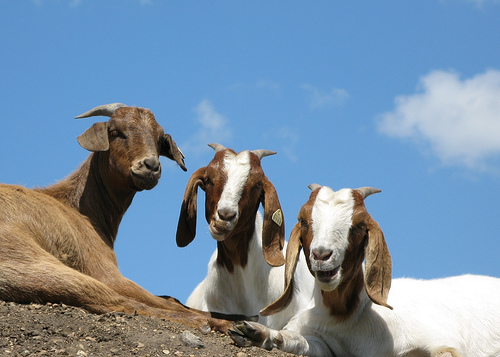goat: (1, 102, 259, 335), (228, 183, 500, 356), (174, 142, 311, 329)
